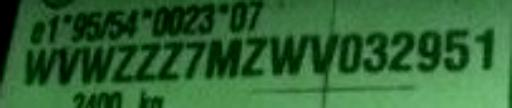letter: (268, 32, 312, 78), (202, 35, 244, 79), (236, 34, 272, 76), (308, 30, 340, 76), (441, 27, 473, 71), (80, 44, 116, 83), (24, 47, 60, 86), (413, 27, 443, 73), (156, 37, 186, 81), (108, 42, 140, 83), (133, 39, 163, 81), (360, 29, 388, 73), (472, 25, 498, 71), (388, 29, 414, 73), (336, 32, 362, 74), (58, 42, 80, 86), (182, 39, 206, 79)
